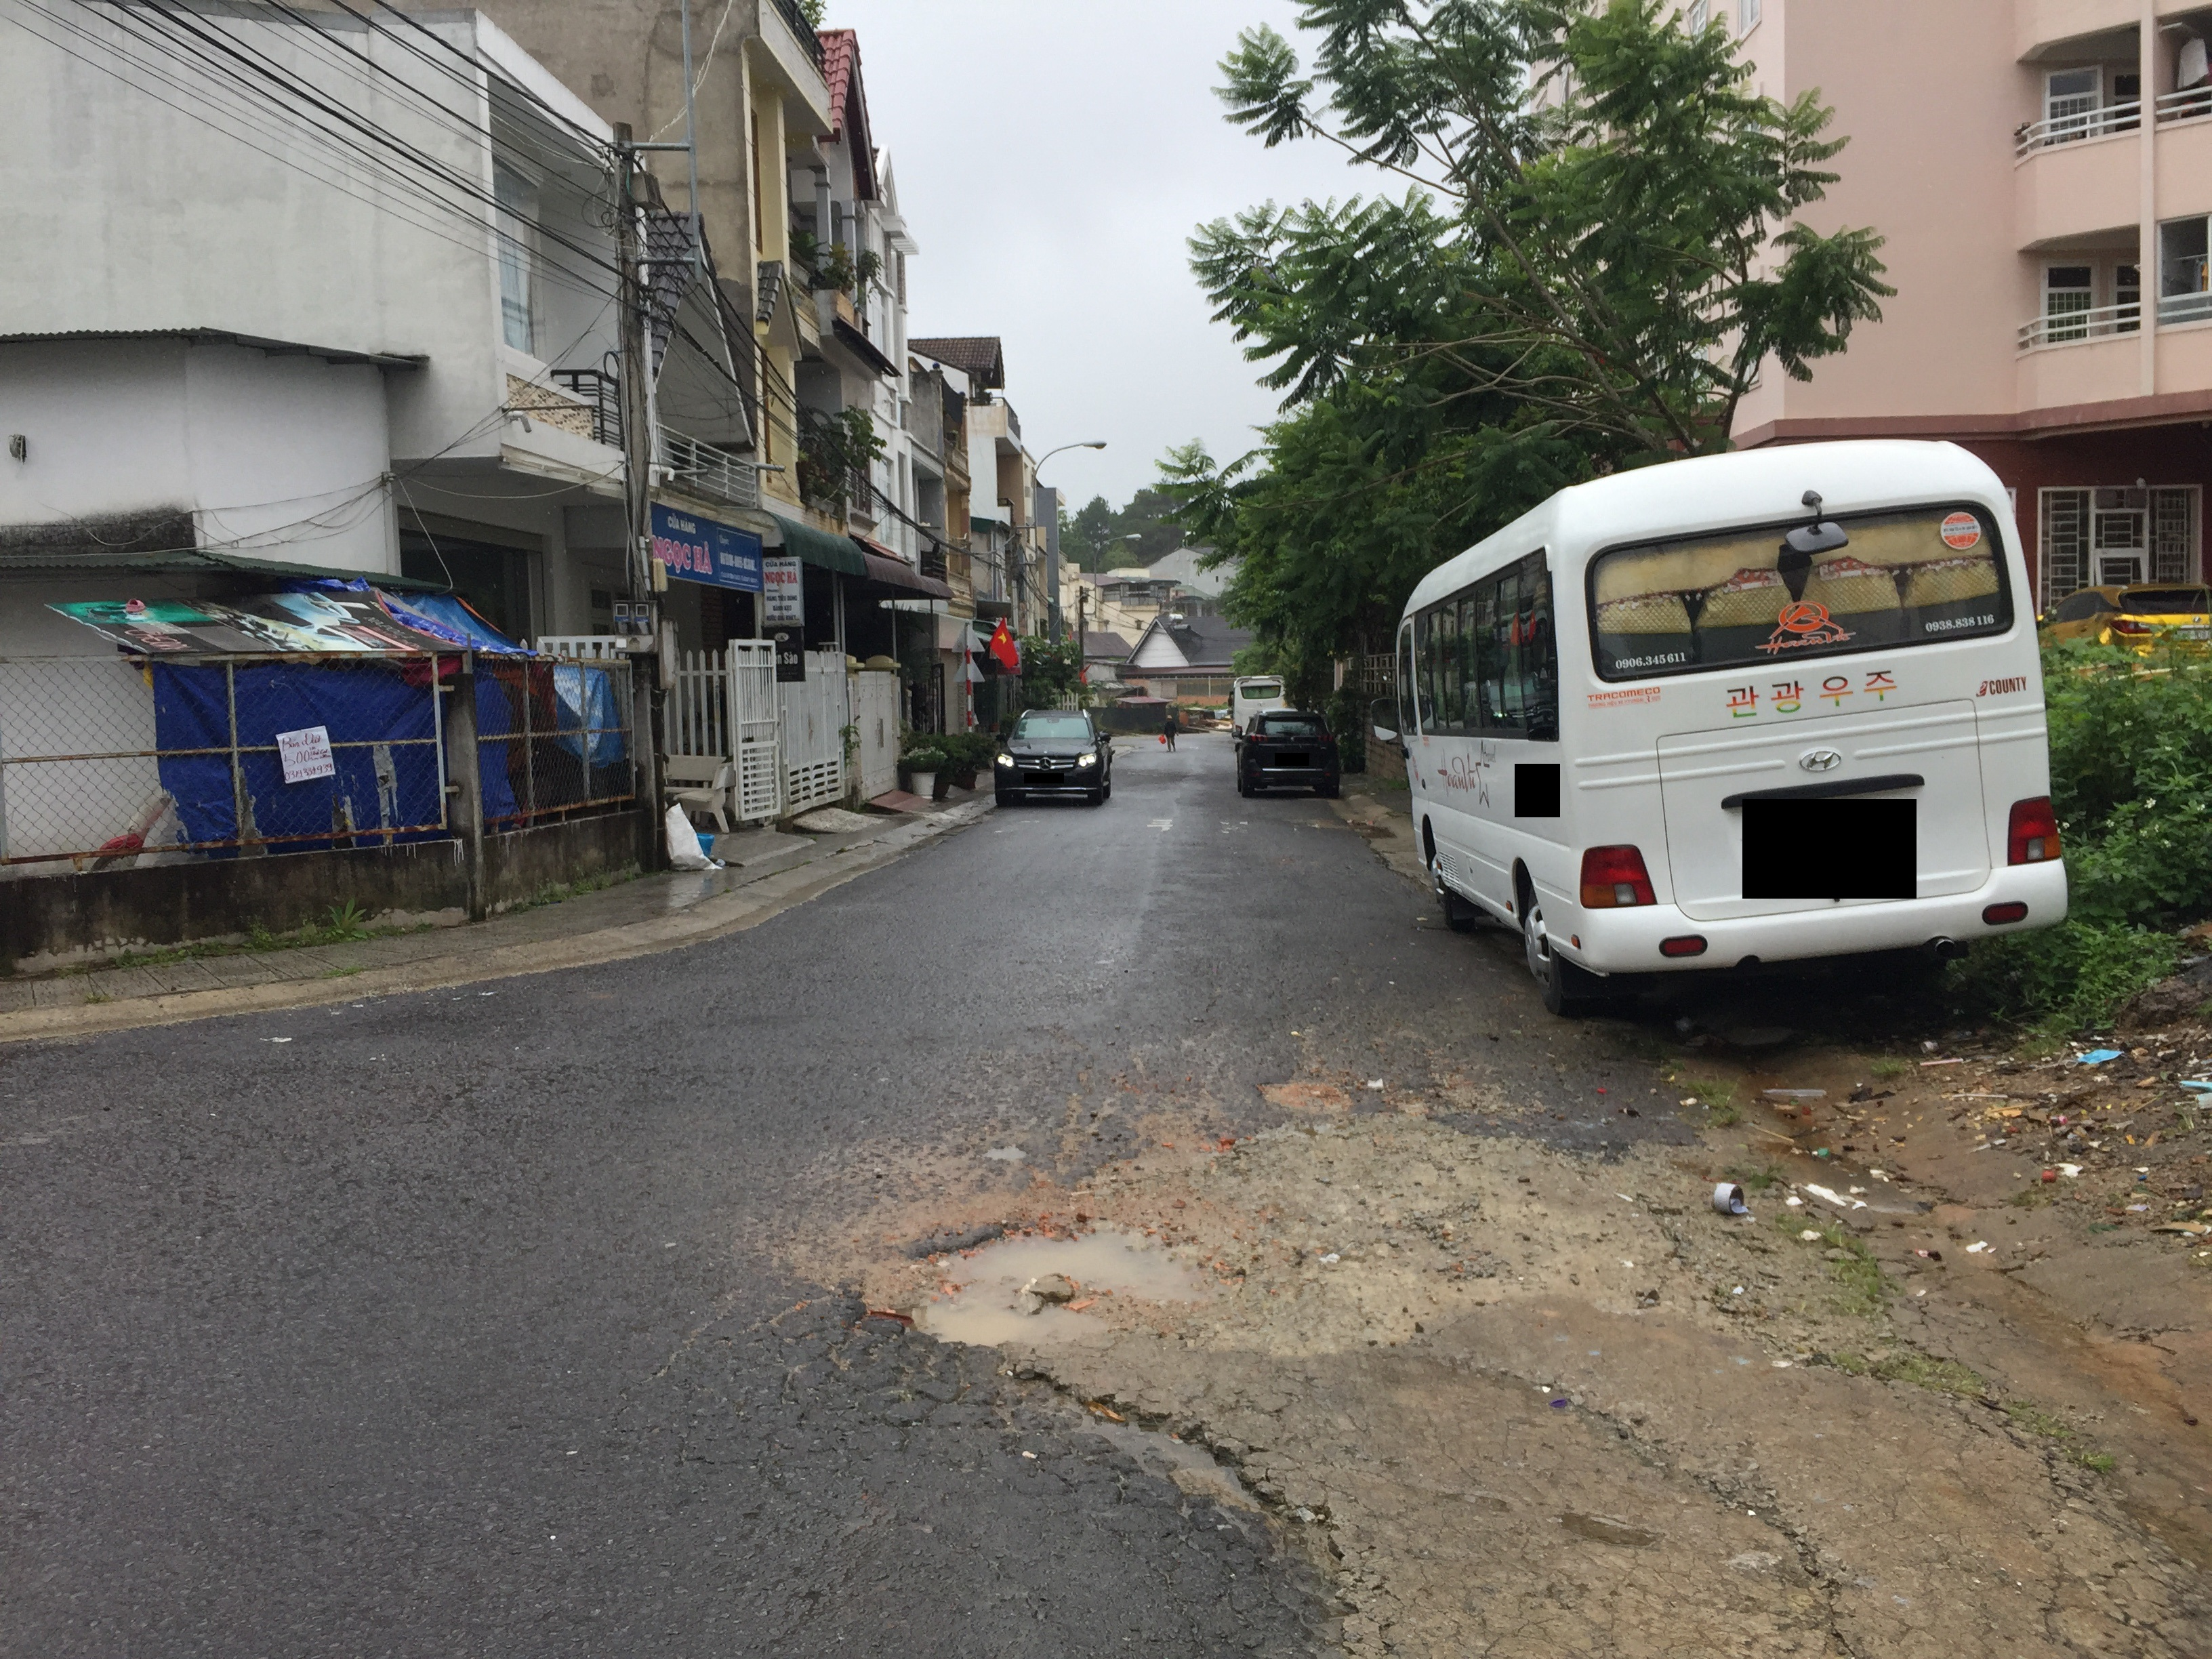hole: (1000, 1373, 1362, 1567), (878, 1206, 1247, 1354), (1249, 1070, 1359, 1119), (979, 1140, 1031, 1162)
